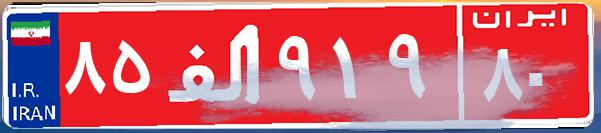0: (525, 38, 570, 115)
1: (330, 28, 385, 110)
5: (110, 28, 158, 105)
8: (57, 26, 110, 107), (475, 38, 525, 113)
9: (385, 28, 445, 110), (273, 28, 330, 110)
الف: (158, 15, 273, 115)
